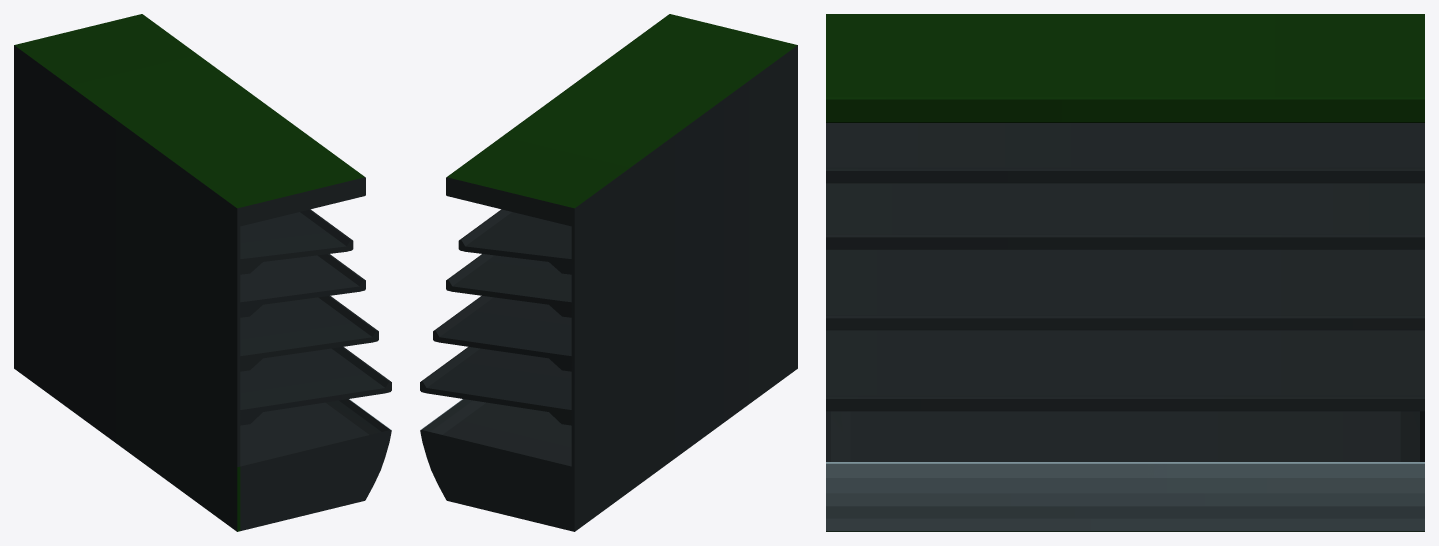
The model's file is Produce_4row_col.glb.
The picture shows the model from 3 angles, left to right: view 1: azimuth 30°, elevation 25°; view 2: azimuth 150°, elevation 25°; view 3: azimuth 270°, elevation 25°; orthographic projection. The views are drawn at different scales.
Visible parts, largest first — view 1: Produce_4row_col; view 2: Produce_4row_col; view 3: Produce_4row_col.
Part boxes in pixels (x1,y1,x2,y2): Produce_4row_col: [14, 14, 391, 531]; Produce_4row_col: [420, 14, 797, 531]; Produce_4row_col: [826, 14, 1424, 531].
Bounding box in the file's own units: 1.2 × 2.4 × 3.
1 material, 1 textured.
